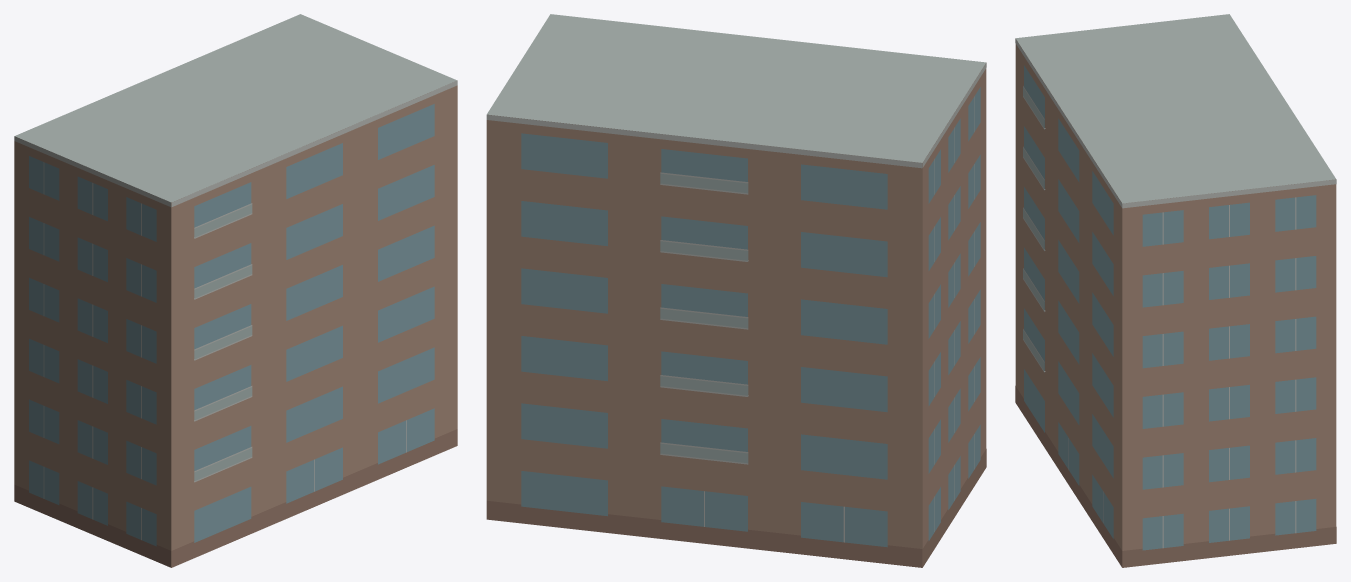
File: survey-upis-32984524.glb
The picture shows the model from 3 angles, left to right: view 1: azimuth 30°, elevation 25°; view 2: azimuth 150°, elevation 25°; view 3: azimuth 270°, elevation 25°; orthographic projection. The views are drawn at different scales.
Parts seen in each view (by area): view 1: survey-upis-32984524.tmp; view 2: survey-upis-32984524.tmp; view 3: survey-upis-32984524.tmp.
Part boxes in pixels (x1,y1,x2,y2): survey-upis-32984524.tmp: [14, 14, 457, 567]; survey-upis-32984524.tmp: [486, 14, 986, 567]; survey-upis-32984524.tmp: [1015, 14, 1336, 567].
Size of the model in its own units: 20.42 by 18.3 by 14.62.
